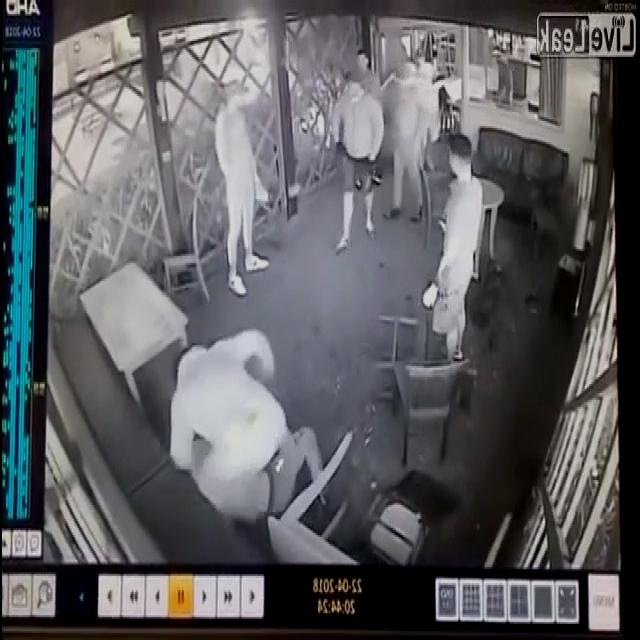fight: (168, 323, 328, 529)
